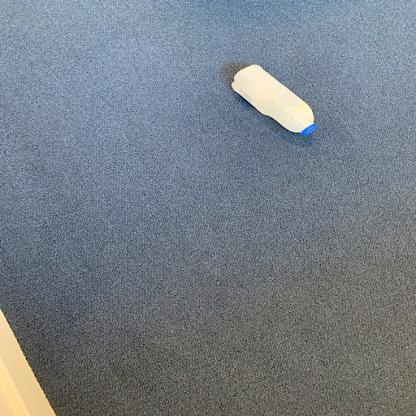trash: (229, 65, 319, 137)
